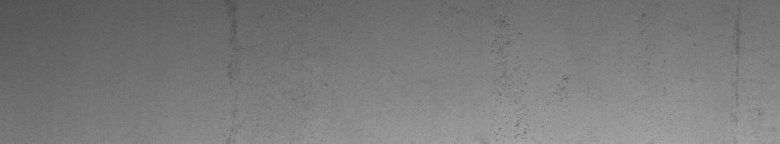ib: (496, 17, 569, 134)
